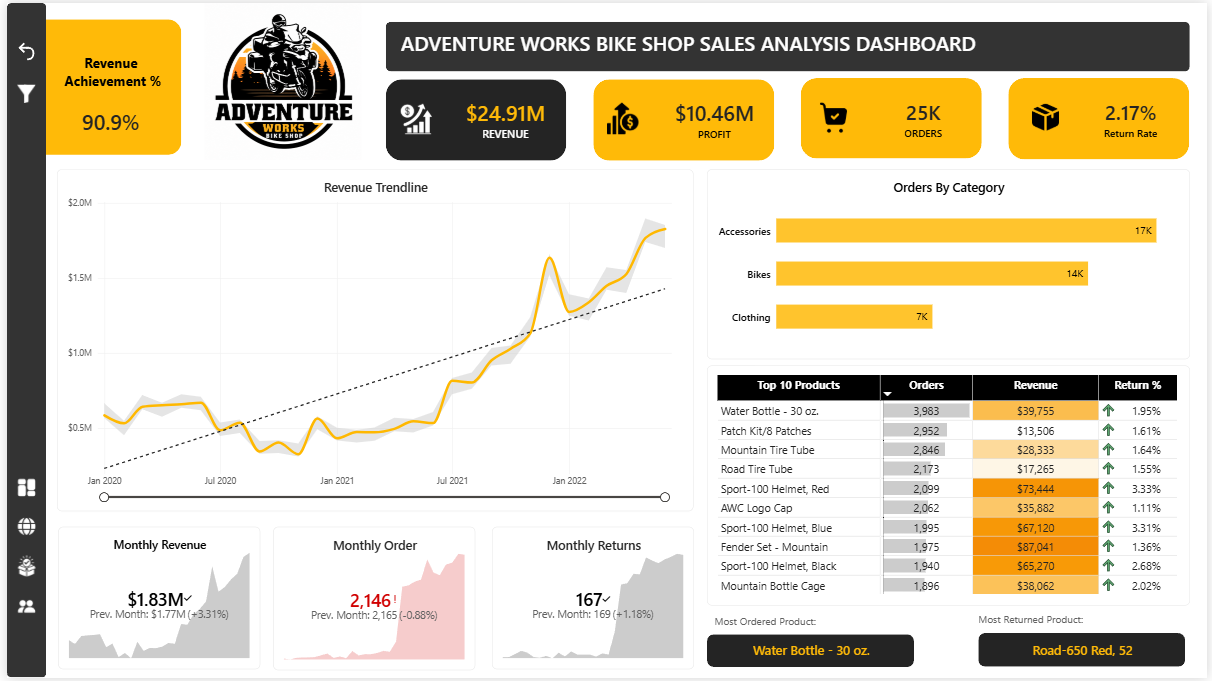

The dashboard page shown, as its layout file describes it:
{"tool":"powerbi","page":{"name":"EXECUTIVE DASHBOARD","canvas":[1920,1080],"ordinal":0},"visuals":[{"type":"shape","box":[61.5,25.3,217.2,217.2],"z":0},{"type":"actionButton","box":[6.2,52.1,50,50],"z":0,"group":"g2"},{"type":"shape","box":[1270.4,120.3,289.9,129],"z":0,"group":"g1"},{"type":"shape","box":[1602.9,120.3,289.9,130.4],"z":0,"group":"g5"},{"type":"shape","box":[606.2,121.2,289,130.3],"z":0,"group":"g3"},{"type":"shape","box":[937.9,121.7,289.9,130.4],"z":0,"group":"g4"},{"type":"shape","box":[1554.5,1008,331,54],"z":0,"group":"g7"},{"type":"shape","box":[1119.9,1009.8,331.2,52.5],"z":0,"group":"g6"},{"type":"actionButton","box":[6.2,120.9,50,50],"z":1000,"group":"g2"},{"type":"cardVisual","fields":{"Data":["_All Measures.Total Revenue"]},"box":[702.9,133.3,191.3,105.8],"z":1000,"group":"g3"},{"type":"cardVisual","fields":{"Data":["_All Measures.Total Profit"]},"box":[1038.7,133.3,188.4,104.3],"z":1000,"group":"g4"},{"type":"cardVisual","fields":{"Data":["_All Measures.Total Orders"]},"box":[1371.5,133.3,188.4,104.3],"z":1000,"group":"g1"},{"type":"cardVisual","fields":{"Data":["_All Measures.Return Rate"]},"box":[1704.4,133.3,188.4,104.3],"z":1000,"group":"g5"},{"type":"kpi","title":"Monthly Revenue","fields":{"Goal":["_All Measures.Previous Month Revenue"],"Indicator":["_All Measures.Total Revenue"],"TrendLine":["Calendar Lookup.Start of Month"]},"box":[82.3,838.4,323.5,227.8],"z":1000},{"type":"cardVisual","fields":{"Data":["Min(Product Lookup.ProductName)"]},"box":[1167.2,1008,238.9,50.7],"z":1000,"group":"g6"},{"type":"cardVisual","fields":{"Data":["Min(Product Lookup.ProductName)"]},"box":[1583.6,1008,274.8,52.1],"z":1000,"group":"g7"},{"type":"shape","box":[0,0,62.8,1079.1],"z":2000},{"type":"image","box":[1291.8,153.6,60.9,58],"z":2000,"group":"g1"},{"type":"image","box":[1633.3,153.6,59.4,58],"z":2000,"group":"g5"},{"type":"image","box":[630.4,157.9,49.3,55.1],"z":2000,"group":"g3"},{"type":"image","box":[960.4,157.9,50.7,53.6],"z":2000,"group":"g4"},{"type":"actionButton","box":[5.7,749.3,51.4,50],"z":2000,"group":"g2"},{"type":"shape","box":[606.2,30.8,1286.7,79.6],"z":3000},{"type":"group","id":"g1","title":"Group 3","box":[1270.4,120.3,289.9,129],"z":3000,"group":"g5"},{"type":"actionButton","box":[5.7,813.1,51.4,50],"z":3000,"group":"g2"},{"type":"image","box":[253.4,0,376.4,251.5],"z":4000},{"type":"actionButton","box":[5.7,876.9,51.4,50],"z":4000,"group":"g2"},{"type":"textbox","box":[629.8,41.6,937.4,48.9],"z":5000},{"type":"actionButton","box":[5.7,940.7,51.4,50],"z":5000,"group":"g2"},{"type":"group","id":"g2","title":"Close Nav Bar","box":[5.7,52.1,51.4,938.6],"z":6000},{"type":"group","id":"g3","title":"Group 1","box":[606.2,121.2,289,130.3],"z":7000},{"type":"group","id":"g4","title":"Group 2","box":[937.9,121.7,289.9,130.4],"z":8000},{"type":"group","id":"g5","title":"Group 4","box":[1270.4,120.3,622.4,130.4],"z":9000},{"type":"clusteredBarChart","title":"Orders By Category","fields":{"Category":["Product Categories Lookup.CategoryName"],"Y":["_All Measures.Total Orders"]},"box":[1120.2,266,772.7,304],"z":10000},{"type":"kpi","title":"Monthly Order","fields":{"Goal":["_All Measures.Previous Month Order"],"Indicator":["_All Measures.Total Orders"],"TrendLine":["Calendar Lookup.Start of Month"]},"box":[426.9,838.4,323.5,229.7],"z":11000},{"type":"kpi","title":"Monthly Returns","fields":{"Goal":["_All Measures.Previous Month Returns"],"Indicator":["_All Measures.Total Returns"],"TrendLine":["Calendar Lookup.Start of Month"]},"box":[775.3,838.4,323.5,227.8],"z":12000},{"type":"pivotTable","fields":{"Rows":["Product Lookup.ProductName"],"Values":["_All Measures.Total Orders","_All Measures.Total Revenue","_All Measures.Return Rate"]},"box":[1120.2,580.9,772.7,383.6],"z":13000},{"type":"group","id":"g6","title":"Group 5","box":[1119.9,1008,331.2,54.3],"z":14000},{"type":"textbox","box":[1132.8,977.2,190,36.2],"z":15000},{"type":"group","id":"g7","title":"Group 5","box":[1554.5,1008,331.2,54.3],"z":16000},{"type":"textbox","box":[1554.5,973.6,190,36.2],"z":17000},{"type":"lineChart","title":"Revenue Trendline","fields":{"Category":["Calendar Lookup.Date.Variation.Date Hierarchy.Year","Calendar Lookup.Date.Variation.Date Hierarchy.Quarter","Calendar Lookup.Date.Variation.Date Hierarchy.Month","Calendar Lookup.Date.Variation.Date Hierarchy.Day"],"Y":["_All Measures.Total Revenue"]},"box":[80.4,266.1,1018.4,547.5],"z":18000},{"type":"cardVisual","fields":{"Data":["_All Measures.Revenue Achievement %"]},"box":[80,146,172,84],"z":19000},{"type":"textbox","box":[88.7,79.6,162.9,74.2],"z":20000}]}

Visuals, with their boxes on the page's 1920x1080 design canvas (x1, y1, x2, y2). These are canvas units, not pixel positions in the 1212x681 screenshot, which may show the page scaled, cropped or inside an application window:
shape: crop(62, 25, 279, 242)
actionButton: crop(6, 52, 56, 102)
shape: crop(1270, 120, 1560, 249)
shape: crop(1603, 120, 1893, 251)
shape: crop(606, 121, 895, 252)
shape: crop(938, 122, 1228, 252)
shape: crop(1554, 1008, 1886, 1062)
shape: crop(1120, 1010, 1451, 1062)
actionButton: crop(6, 121, 56, 171)
cardVisual - _All Measures.Total Revenue: crop(703, 133, 894, 239)
cardVisual - _All Measures.Total Profit: crop(1039, 133, 1227, 238)
cardVisual - _All Measures.Total Orders: crop(1372, 133, 1560, 238)
cardVisual - _All Measures.Return Rate: crop(1704, 133, 1893, 238)
"Monthly Revenue" kpi: crop(82, 838, 406, 1066)
cardVisual - Min(Product Lookup.ProductName): crop(1167, 1008, 1406, 1059)
cardVisual - Min(Product Lookup.ProductName): crop(1584, 1008, 1858, 1060)
shape: crop(0, 0, 63, 1079)
image: crop(1292, 154, 1353, 212)
image: crop(1633, 154, 1693, 212)
image: crop(630, 158, 680, 213)
image: crop(960, 158, 1011, 212)
actionButton: crop(6, 749, 57, 799)
shape: crop(606, 31, 1893, 110)
"Group 3" group: crop(1270, 120, 1560, 249)
actionButton: crop(6, 813, 57, 863)
image: crop(253, 0, 630, 252)
actionButton: crop(6, 877, 57, 927)
textbox: crop(630, 42, 1567, 90)
actionButton: crop(6, 941, 57, 991)
"Close Nav Bar" group: crop(6, 52, 57, 991)
"Group 1" group: crop(606, 121, 895, 252)
"Group 2" group: crop(938, 122, 1228, 252)
"Group 4" group: crop(1270, 120, 1893, 251)
"Orders By Category" clusteredBarChart: crop(1120, 266, 1893, 570)
"Monthly Order" kpi: crop(427, 838, 750, 1068)
"Monthly Returns" kpi: crop(775, 838, 1099, 1066)
pivotTable - Product Lookup.ProductName x _All Measures.Total Orders: crop(1120, 581, 1893, 964)
"Group 5" group: crop(1120, 1008, 1451, 1062)
textbox: crop(1133, 977, 1323, 1013)
"Group 5" group: crop(1554, 1008, 1886, 1062)
textbox: crop(1554, 974, 1744, 1010)
"Revenue Trendline" lineChart: crop(80, 266, 1099, 814)
cardVisual - _All Measures.Revenue Achievement %: crop(80, 146, 252, 230)
textbox: crop(89, 80, 252, 154)
